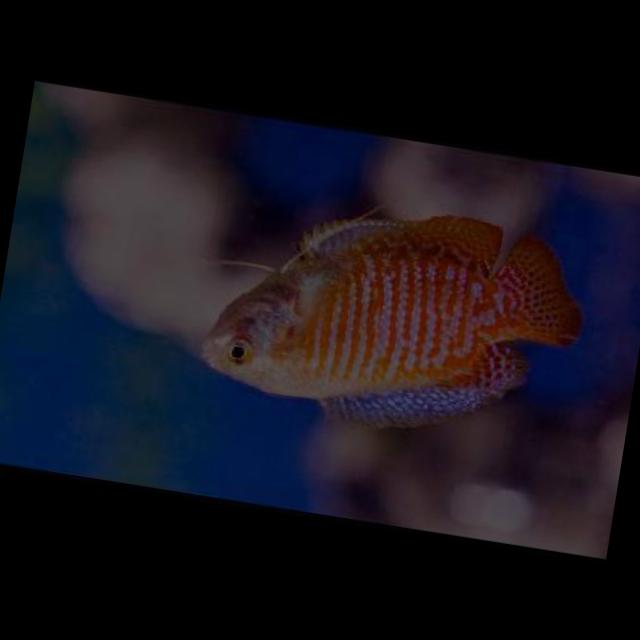Gourami: (187, 179, 599, 469)
